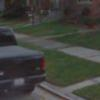cars: (0, 28, 46, 94)
